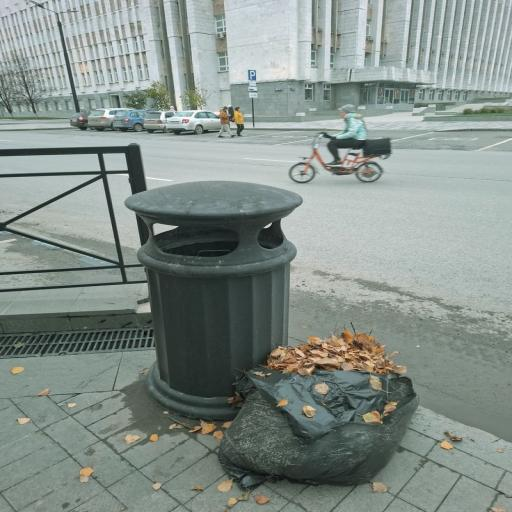bag: (289, 132, 389, 183)
book: (167, 110, 220, 134), (144, 111, 175, 133)
ramp: (125, 181, 302, 420)
